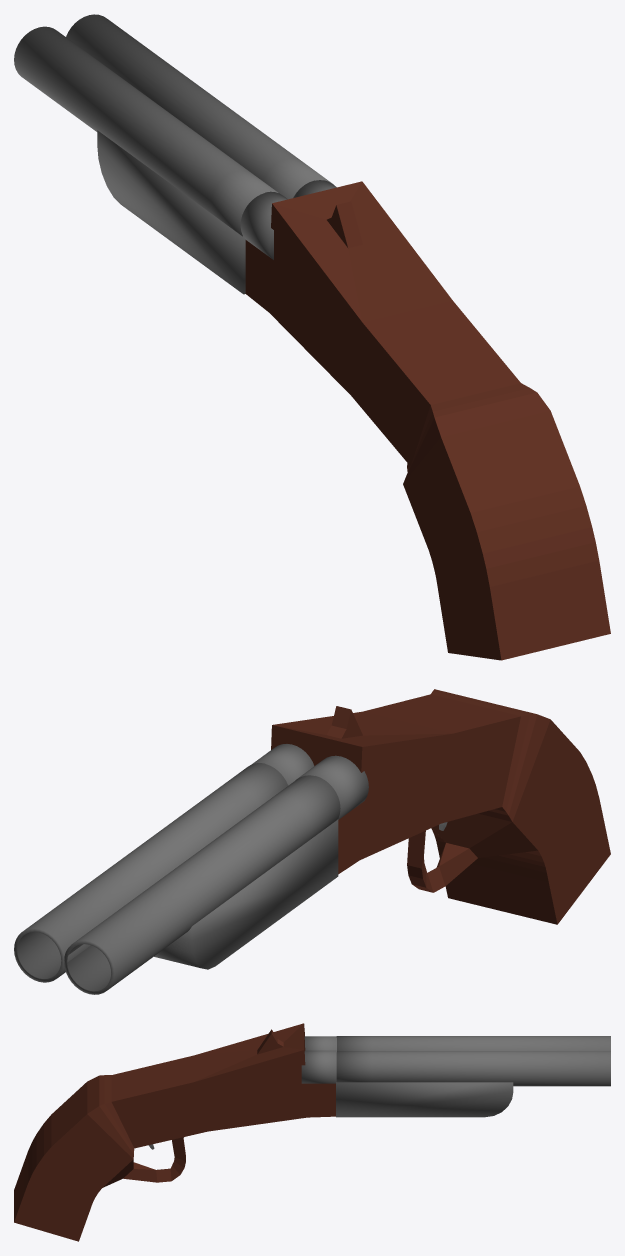
File: Sawed off shotgun.fbx
3 renders of one model, top to bottom at view 1: azimuth 30°, elevation 25°; view 2: azimuth 150°, elevation 25°; view 3: azimuth 270°, elevation 25°, orthographic. The views are drawn at different scales.
Visible parts, largest first — view 1: Handle, EndBarrel, Start Barrel; view 2: Handle, EndBarrel, Start Barrel; view 3: Handle, EndBarrel, Start Barrel.
Boxes of the visible parts, x1,y1,x2,y2 form: Handle: [245, 181, 610, 660]; EndBarrel: [14, 14, 333, 294]; Start Barrel: [240, 180, 336, 259]; Handle: [271, 689, 610, 924]; EndBarrel: [14, 763, 340, 994]; Start Barrel: [252, 744, 368, 819]; Handle: [14, 1023, 335, 1241]; EndBarrel: [336, 1036, 610, 1117]; Start Barrel: [301, 1036, 336, 1083].
Bounding box in the file's own units: 135 × 376 × 1047.
